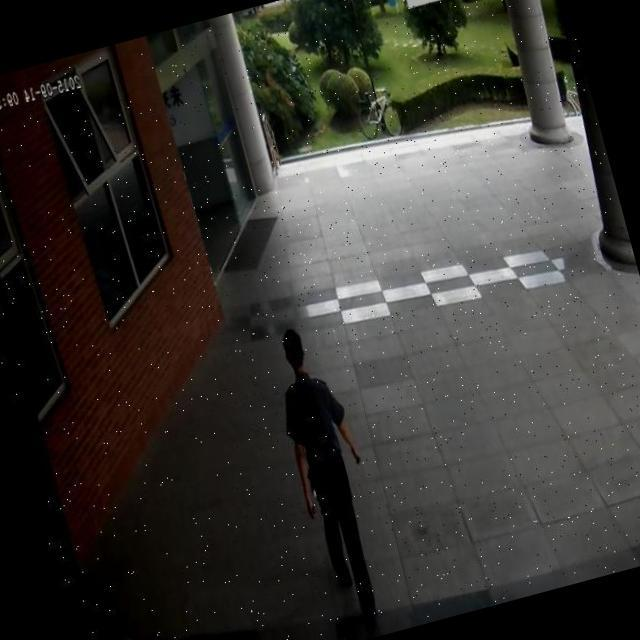person: (254, 309, 407, 640)
